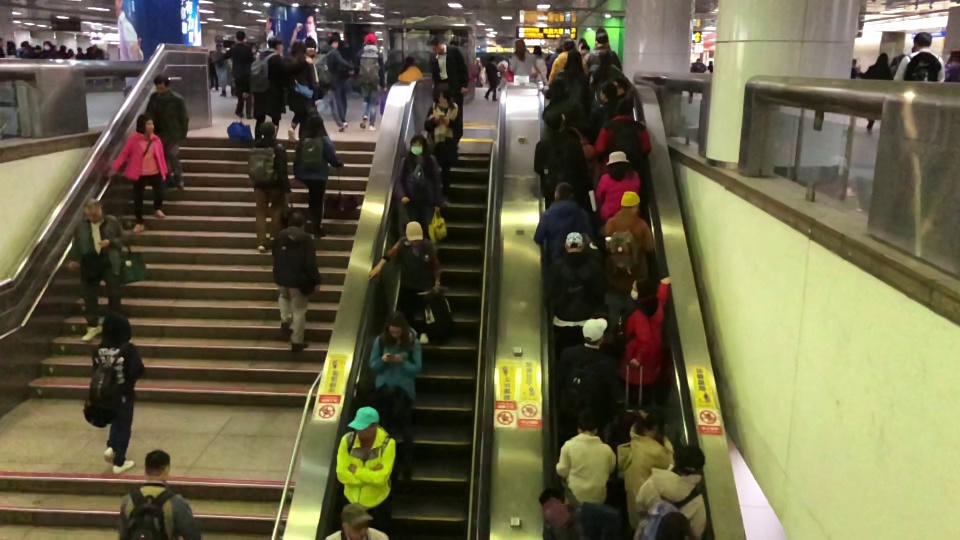person_head: (539, 490, 574, 526), (346, 405, 379, 442), (341, 503, 371, 540), (671, 445, 707, 475), (100, 311, 132, 344), (143, 450, 171, 482), (641, 404, 666, 437), (581, 316, 608, 345), (629, 276, 654, 302), (606, 150, 630, 174), (387, 311, 406, 339), (563, 230, 585, 253), (81, 198, 102, 222), (542, 108, 563, 132), (575, 413, 599, 434), (405, 220, 424, 245), (408, 133, 428, 156), (621, 189, 641, 212), (552, 180, 573, 201), (598, 81, 618, 103), (151, 73, 171, 94), (135, 112, 154, 134), (912, 31, 934, 50), (549, 82, 567, 102), (434, 82, 450, 104), (287, 210, 305, 229), (306, 112, 323, 132), (565, 49, 582, 69), (614, 100, 632, 117), (259, 120, 275, 139), (598, 49, 612, 69), (267, 35, 284, 51), (426, 36, 443, 51), (304, 37, 317, 56), (289, 39, 304, 55), (946, 46, 960, 63), (363, 31, 377, 46), (875, 51, 889, 65), (327, 34, 340, 48), (594, 33, 608, 46), (235, 29, 247, 44), (402, 56, 415, 68), (514, 39, 525, 53), (533, 45, 542, 59), (563, 39, 574, 49), (42, 40, 50, 50), (59, 44, 67, 53), (555, 46, 562, 55), (851, 56, 856, 67), (216, 42, 222, 51), (487, 55, 495, 61), (67, 48, 73, 55), (77, 46, 82, 53)
person_vbox: (80, 310, 145, 474), (367, 311, 424, 483), (367, 220, 441, 344), (68, 198, 129, 344), (615, 404, 676, 531), (118, 449, 201, 540), (108, 112, 169, 233), (271, 210, 321, 353), (616, 275, 672, 402), (603, 190, 655, 326), (634, 444, 707, 540), (542, 231, 604, 343), (335, 405, 396, 517), (292, 112, 345, 240), (246, 120, 291, 254), (554, 412, 617, 504), (557, 318, 617, 413), (144, 73, 190, 192), (423, 83, 463, 207), (532, 180, 593, 260), (395, 133, 443, 233), (533, 107, 589, 189), (426, 35, 470, 138), (592, 99, 651, 173), (312, 33, 353, 131), (249, 37, 285, 140), (594, 150, 641, 223), (354, 30, 386, 133), (287, 39, 318, 143), (222, 30, 255, 119), (589, 81, 646, 132), (538, 50, 592, 100), (893, 31, 945, 82), (541, 82, 587, 134), (865, 52, 894, 131), (589, 51, 634, 100), (548, 39, 588, 84), (583, 32, 620, 70), (213, 43, 234, 97), (508, 38, 534, 78), (484, 54, 500, 101), (532, 45, 548, 84), (945, 44, 959, 83), (40, 40, 54, 59), (850, 55, 859, 81), (57, 45, 67, 59), (76, 47, 84, 60)
